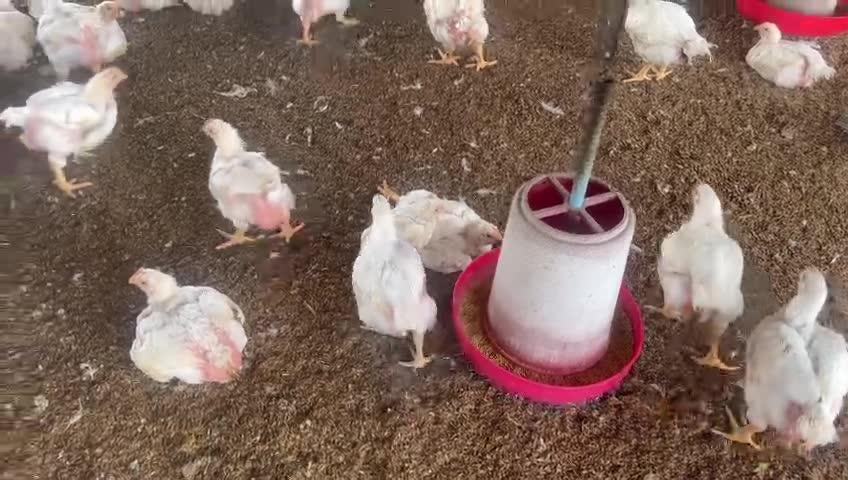AbNormal: (194, 106, 319, 261), (121, 253, 255, 391), (379, 173, 499, 266), (746, 14, 845, 89)
Normal: (740, 246, 848, 459), (649, 179, 750, 378), (6, 66, 140, 194), (351, 194, 441, 375), (609, 0, 710, 92), (36, 0, 144, 86), (410, 0, 510, 79)
